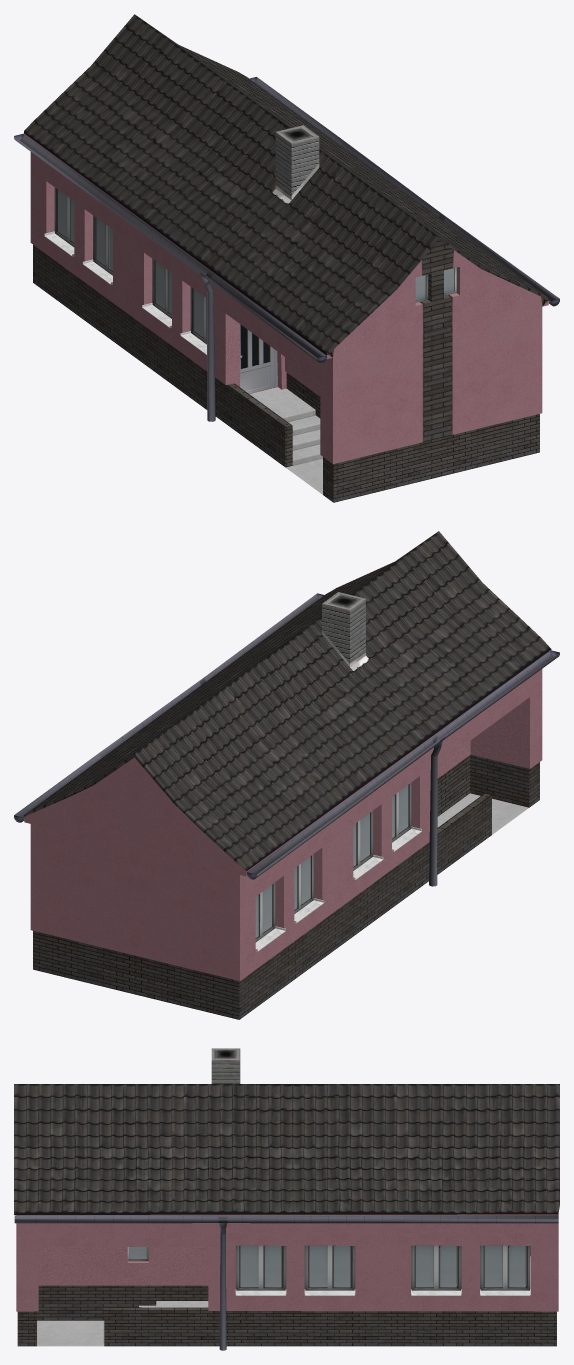
Rendered from house-3.glb.
3 renders of one model, top to bottom at view 1: azimuth 30°, elevation 25°; view 2: azimuth 150°, elevation 25°; view 3: azimuth 270°, elevation 25°, orthographic. The views are drawn at different scales.
Visible parts, largest first — view 1: Cube; view 2: Cube; view 3: Cube.
Boxes of the visible parts, left/top/right/bottom form: Cube: left=14, top=14, right=559, bottom=502; Cube: left=14, top=531, right=559, bottom=1019; Cube: left=14, top=1048, right=559, bottom=1350.
Size of the model in its own units: 2.32 by 2.41 by 5.03.
Materials: 2 (2 with a texture image).
